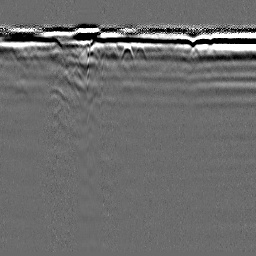cavity: (119, 41, 135, 61)
